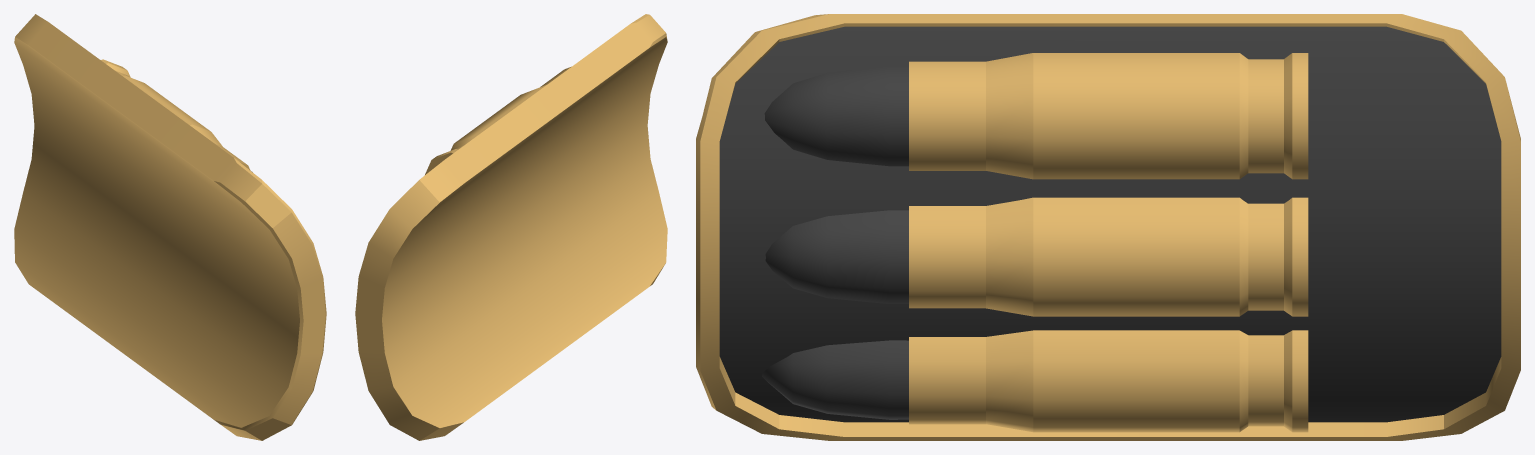
File: GunDoor.fbx
3 renders of one model, left to right at view 1: azimuth 30°, elevation 25°; view 2: azimuth 150°, elevation 25°; view 3: azimuth 270°, elevation 25°, orthographic. The views are drawn at different scales.
Parts seen in each view (by area): view 1: Door; view 2: Door; view 3: Door.
Part boxes in pixels (left/top/right/bottom): Door: left=14, top=14, right=326, bottom=440; Door: left=355, top=14, right=667, bottom=440; Door: left=696, top=14, right=1520, bottom=440.
Size of the model in its own units: 26.72 by 80.45 by 141.
